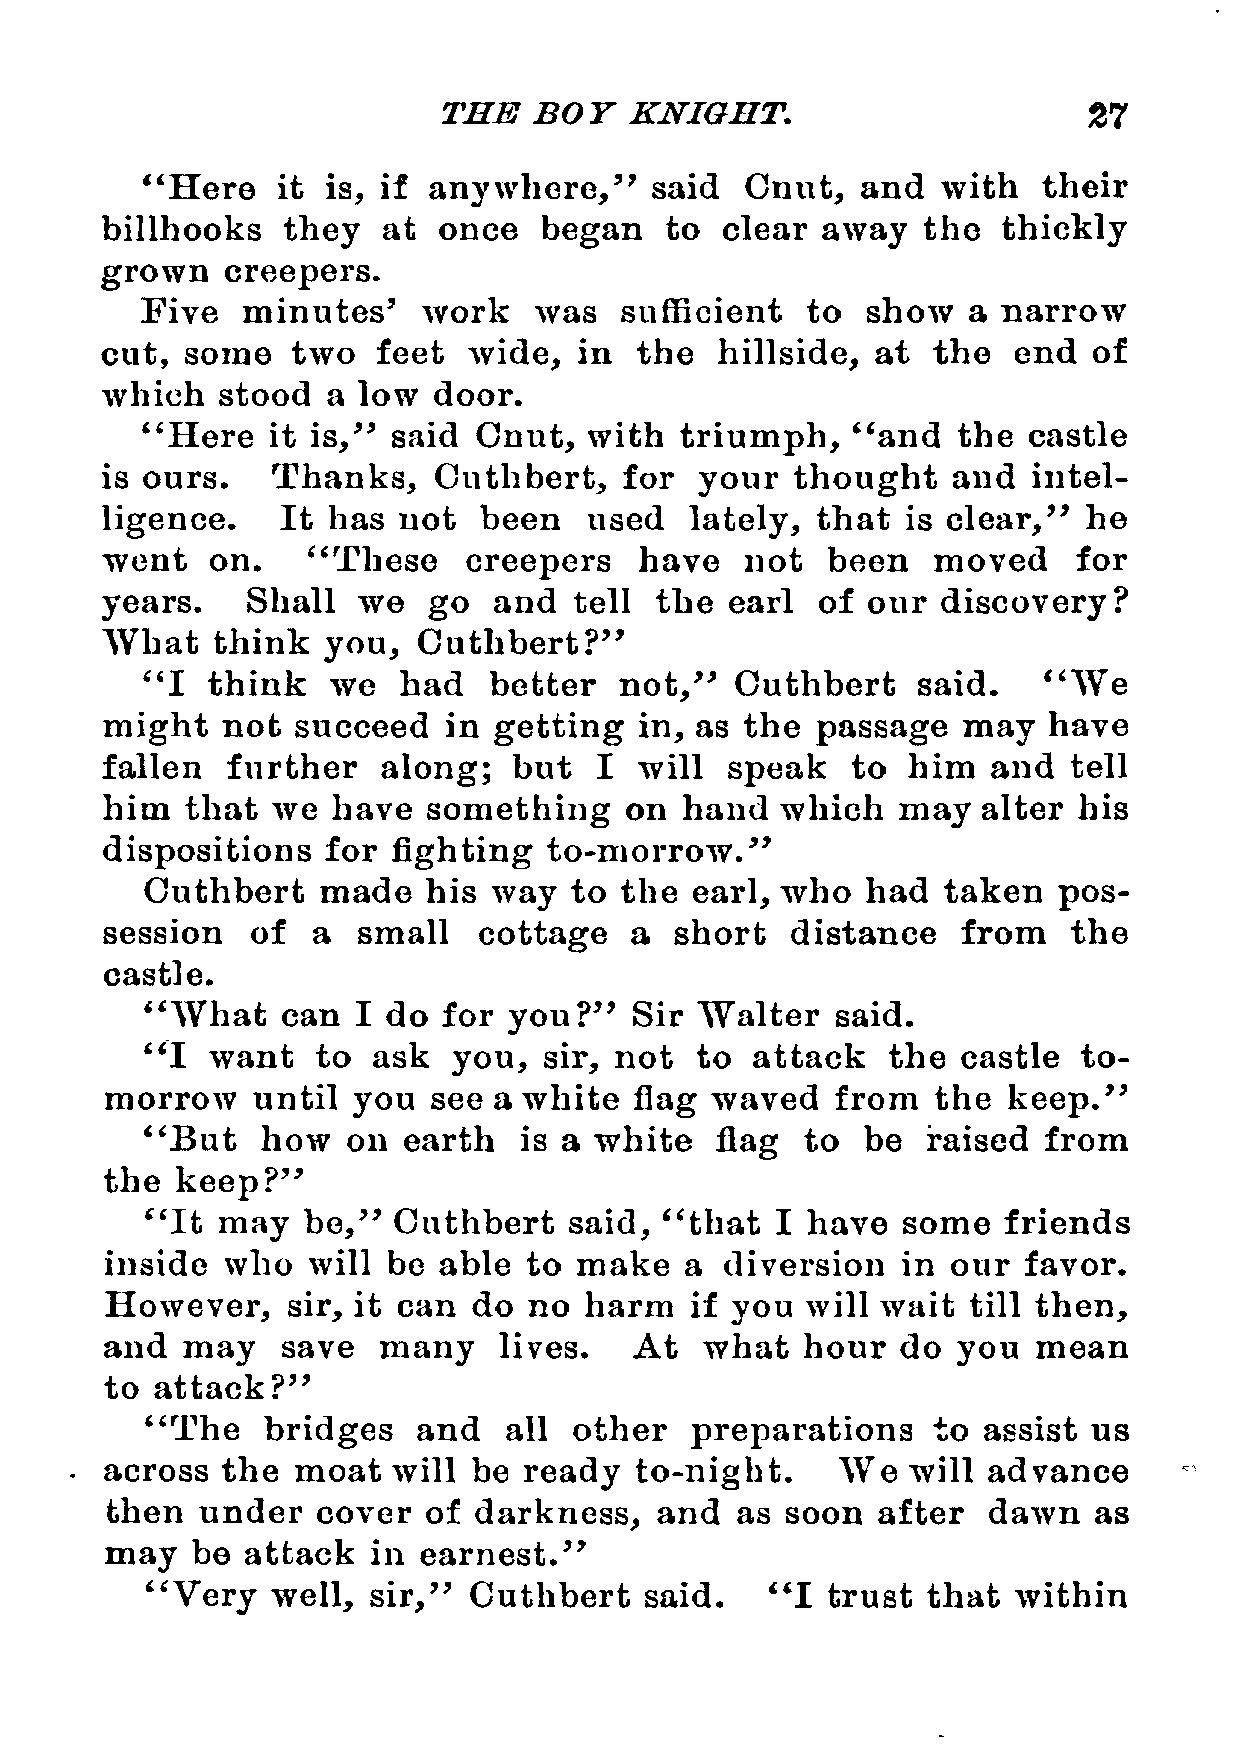content: (95, 166, 1134, 1620)
content_chapter: (432, 93, 798, 129)
content_pagenumber: (1079, 93, 1131, 132)
